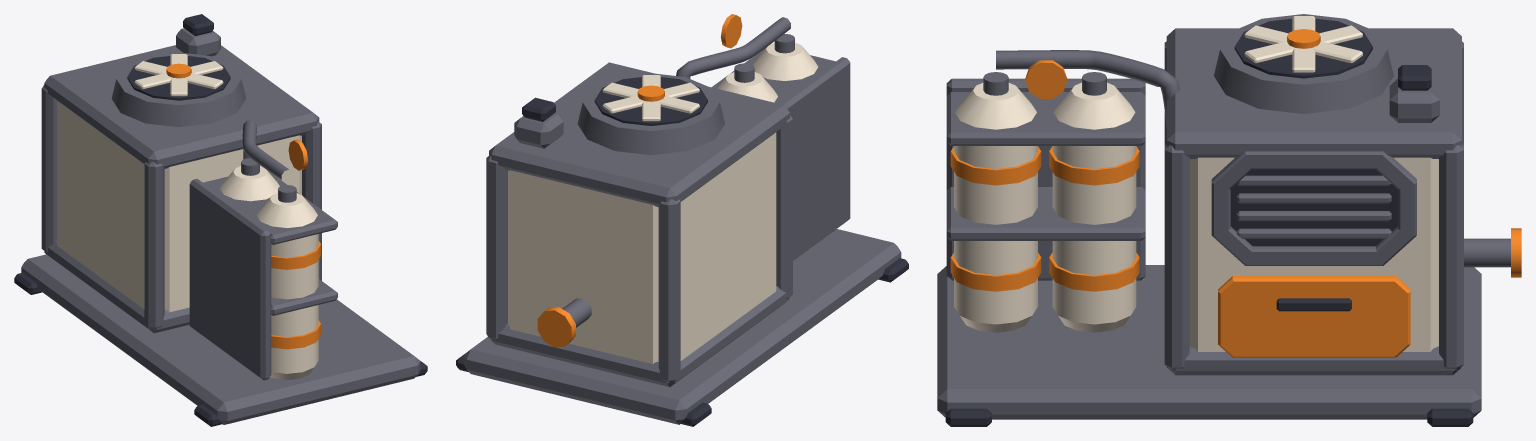
File: asset.glb
The picture shows the model from 3 angles, left to right: view 1: azimuth 30°, elevation 25°; view 2: azimuth 150°, elevation 25°; view 3: azimuth 270°, elevation 25°; orthographic projection. The views are drawn at different scales.
Parts seen in each view (by area): view 1: oxygen-maker_smooth-structure_structure-gray, cabinet_smooth-structure_structure-gray, cabinet_smooth-structure, Oxygen tank 1_smooth-structure, cabinet_dark-trim, Oxygen tank 0_smooth-structure, Oxygen tank 1_accent-paint, oxygen-maker_dark-trim, Orange valve wheel; view 2: cabinet_smooth-structure, cabinet_smooth-structure_structure-gray, oxygen-maker_smooth-structure_structure-gray, cabinet_dark-trim, Oxygen tank 1_smooth-structure, Water inlet flange, Oxygen tank 0_smooth-structure, oxygen-maker_dark-trim, Orange valve wheel, Water inlet pipe; view 3: cabinet_smooth-structure_structure-gray, oxygen-maker_smooth-structure_structure-gray, cabinet_smooth-structure, cabinet_accent-paint, Oxygen tank 0_smooth-structure, Oxygen tank 1_smooth-structure, cabinet_dark-trim, Oxygen tank 1_accent-paint, Oxygen tank 0_accent-paint, oxygen-maker_dark-trim, Water inlet pipe, Orange valve wheel (+3 smaller).
Boxes of the visible parts, x1,y1,x2,y2 form: oxygen-maker_smooth-structure_structure-gray: (21,120,420,424); cabinet_smooth-structure_structure-gray: (41,28,321,333); cabinet_smooth-structure: (57,54,301,312); Oxygen tank 1_smooth-structure: (256,193,318,379); cabinet_dark-trim: (127,14,230,100); Oxygen tank 0_smooth-structure: (220,166,279,201); Oxygen tank 1_accent-paint: (271,241,320,349); oxygen-maker_dark-trim: (14,273,427,426); Orange valve wheel: (288,139,308,170); cabinet_smooth-structure: (508,75,776,363); cabinet_smooth-structure_structure-gray: (486,62,792,386); oxygen-maker_smooth-structure_structure-gray: (463,17,901,424); cabinet_dark-trim: (522,77,707,125); Oxygen tank 1_smooth-structure: (752,42,818,80); Water inlet flange: (537,307,575,347); Oxygen tank 0_smooth-structure: (716,72,777,102); oxygen-maker_dark-trim: (456,258,908,426); Orange valve wheel: (721,14,742,48); Water inlet pipe: (562,298,591,327); cabinet_smooth-structure_structure-gray: (1164,14,1463,375); oxygen-maker_smooth-structure_structure-gray: (937,50,1481,419); cabinet_smooth-structure: (1189,16,1438,351); cabinet_accent-paint: (1218,29,1410,357); Oxygen tank 0_smooth-structure: (1052,82,1136,332); Oxygen tank 1_smooth-structure: (954,83,1037,332); cabinet_dark-trim: (1230,18,1431,311); Oxygen tank 1_accent-paint: (950,146,1041,291); Oxygen tank 0_accent-paint: (1049,146,1139,291); oxygen-maker_dark-trim: (945,408,1473,426); Water inlet pipe: (1464,238,1510,267); Orange valve wheel: (1025,60,1067,98).
Bounding box in the file's own units: 1.62 × 1.7 × 2.79.
